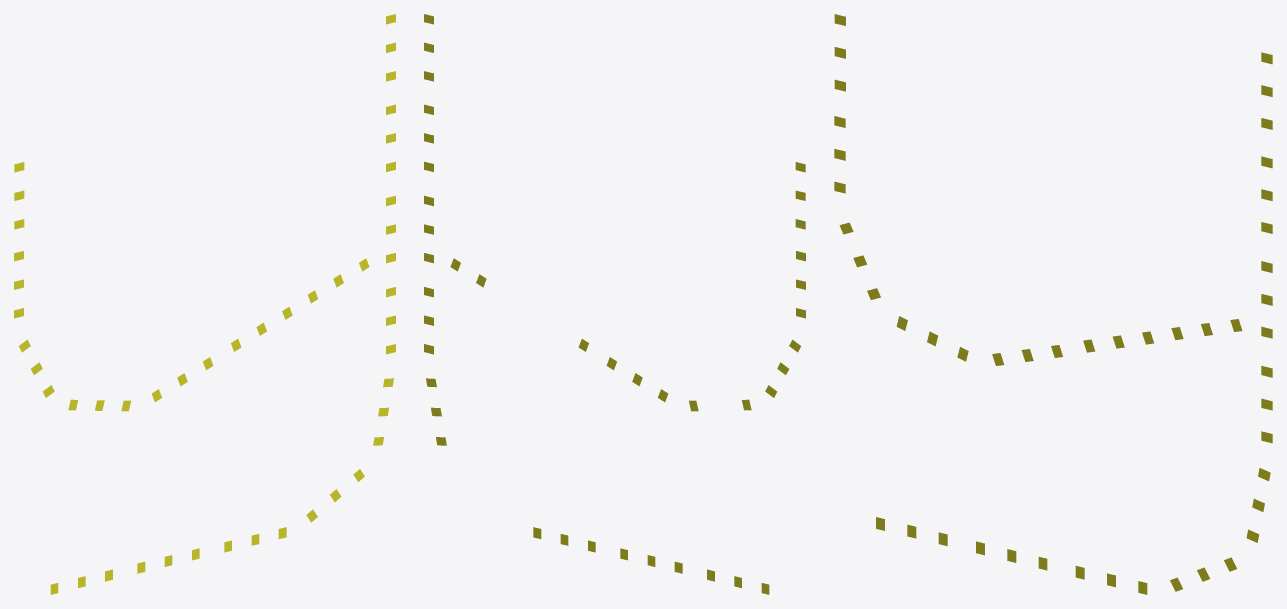
The model's file is led.glb.
The picture shows the model from 3 angles, left to right: view 1: azimuth 30°, elevation 25°; view 2: azimuth 150°, elevation 25°; view 3: azimuth 330°, elevation 25°; orthographic projection. The views are drawn at different scales.
Visible parts, largest first — view 1: led; view 2: led; view 3: led.
Boxes of the visible parts, <box> form: led: <box>14,14,395,594</box>; led: <box>424,14,805,594</box>; led: <box>834,14,1272,594</box>.
Bounding box in the file's own units: 34.29 × 42.64 × 9.47e-15.
